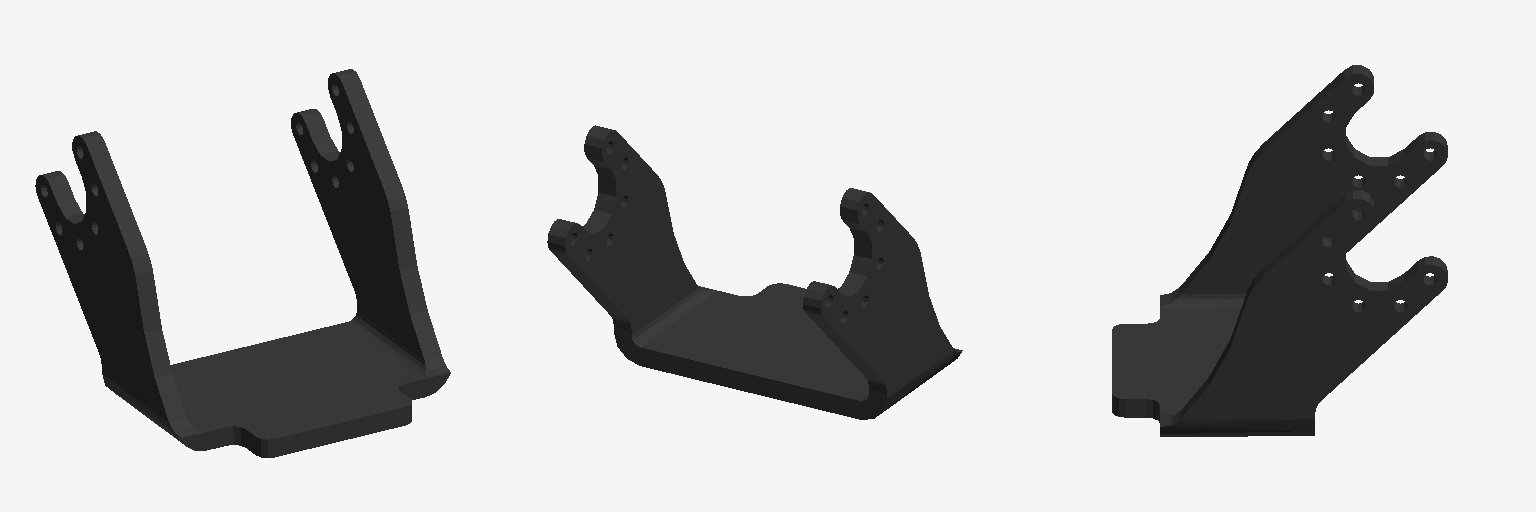
Rendered from Carbon_Mov_Finger_021_v1_1_mesh.obj.
3 views of the same model, side by side, from view 1: azimuth 30°, elevation 25°; view 2: azimuth 150°, elevation 25°; view 3: azimuth 270°, elevation 25° (orthographic).
Size of the model in its own units: 0.046 by 0.0399 by 0.049.